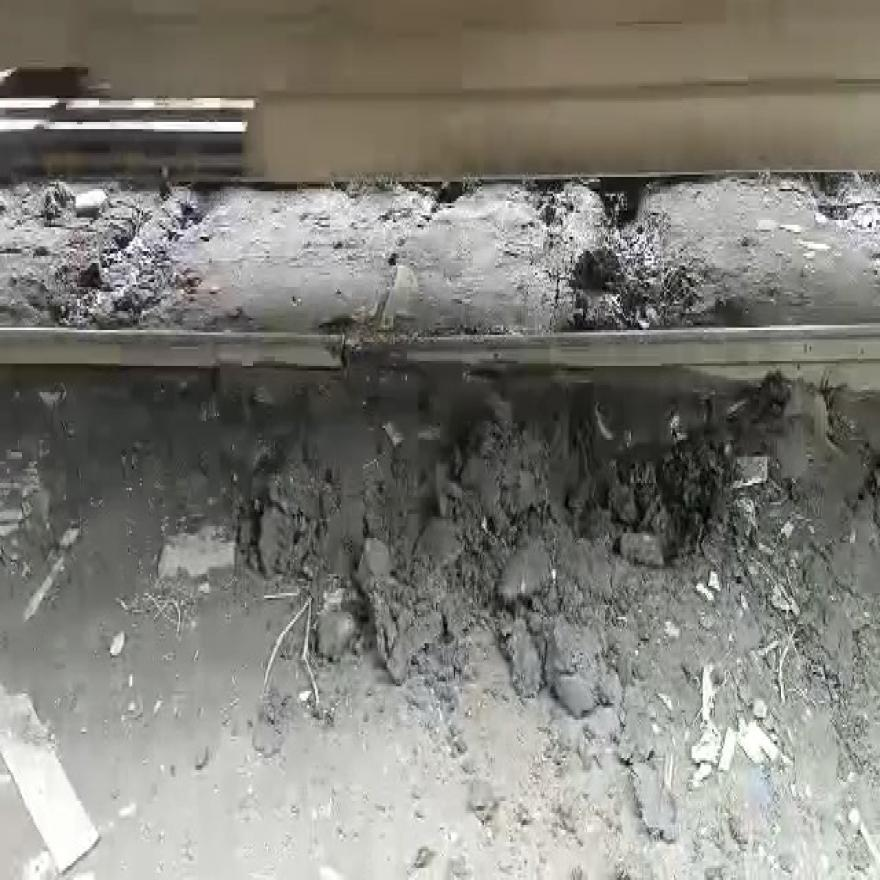railway-gap: (304, 290, 380, 415)
